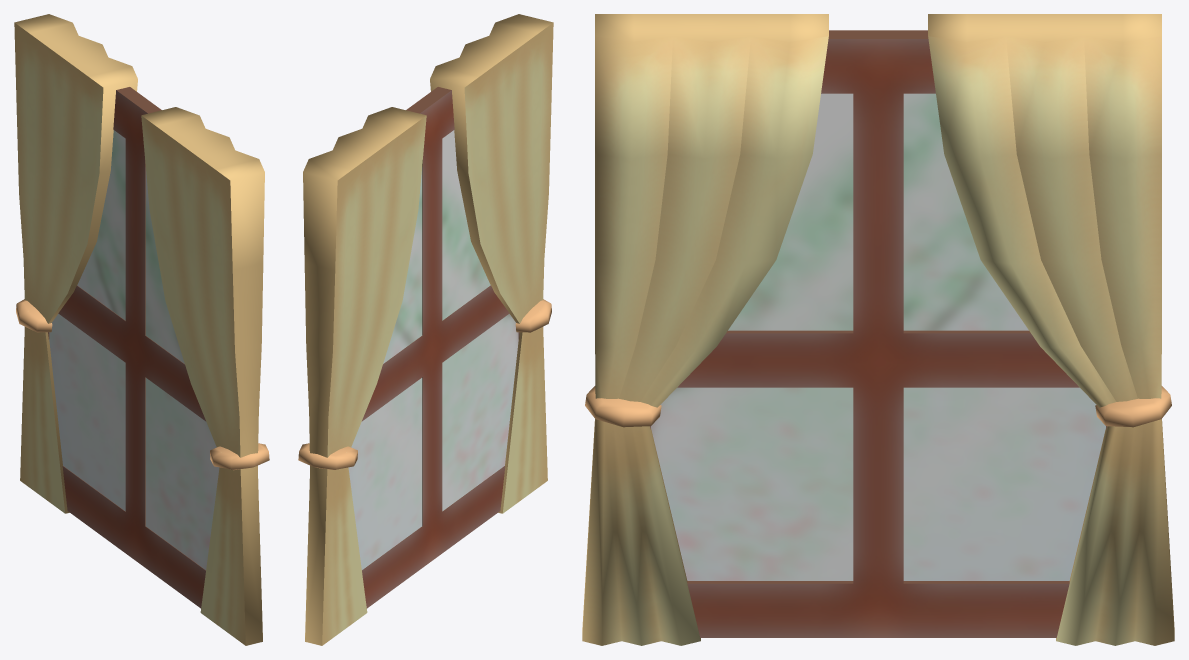
Rendered from window.glb.
3 renders of one model, left to right at view 1: azimuth 30°, elevation 25°; view 2: azimuth 150°, elevation 25°; view 3: azimuth 270°, elevation 25°, orthographic. The views are drawn at different scales.
Parts seen in each view (by area): view 1: Cube.008; view 2: Cube.008; view 3: Cube.008.
Part boxes in pixels (x1,y1,x2,y2): Cube.008: (14,14,269,645); Cube.008: (298,14,553,645); Cube.008: (582,14,1174,645).
Size of the model in its own units: 0.4109 by 3.49 by 3.08.
Materials: 1 (1 with a texture image).
